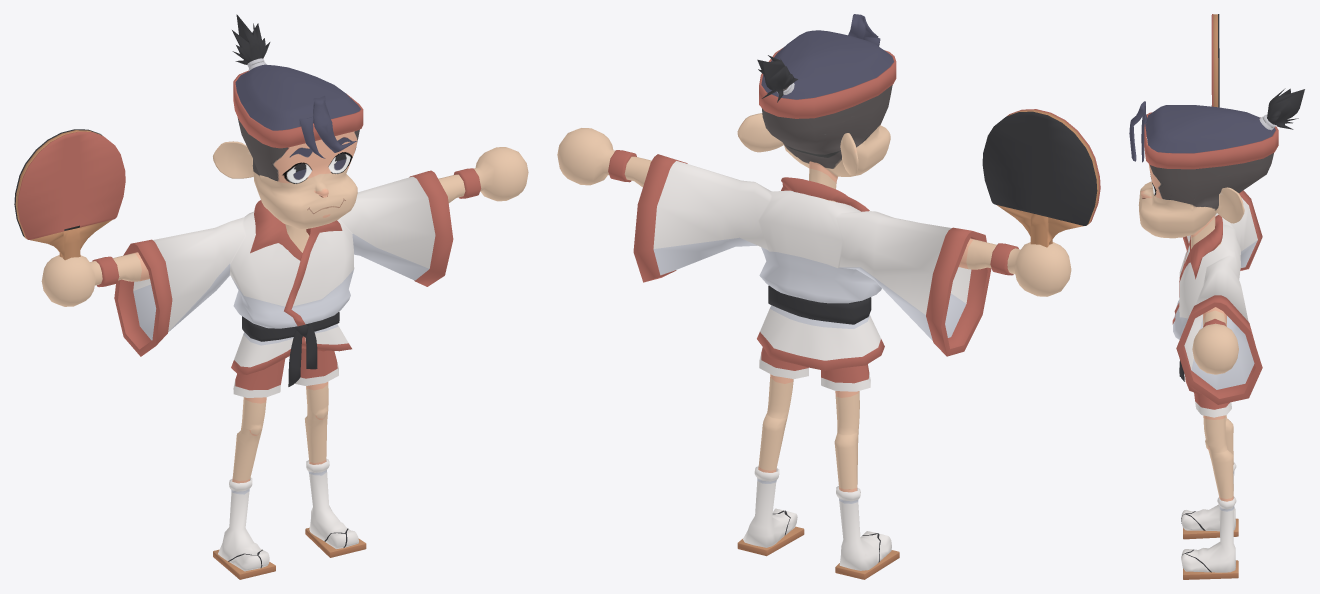
File: Carlos Kano 3D(1).gltf
The picture shows the model from 3 angles, left to right: view 1: azimuth 30°, elevation 25°; view 2: azimuth 150°, elevation 25°; view 3: azimuth 270°, elevation 25°; orthographic projection. The views are drawn at different scales.
Parts seen in each view (by area): view 1: Carlos_Kano; view 2: Carlos_Kano; view 3: Carlos_Kano.
Boxes of the visible parts, bbox=[...] form: Carlos_Kano: bbox=[14, 14, 528, 579]; Carlos_Kano: bbox=[557, 14, 1100, 579]; Carlos_Kano: bbox=[1129, 14, 1304, 579].
Size of the model in its own units: 1.31 by 1.23 by 0.4251.
1 material, 1 textured.
